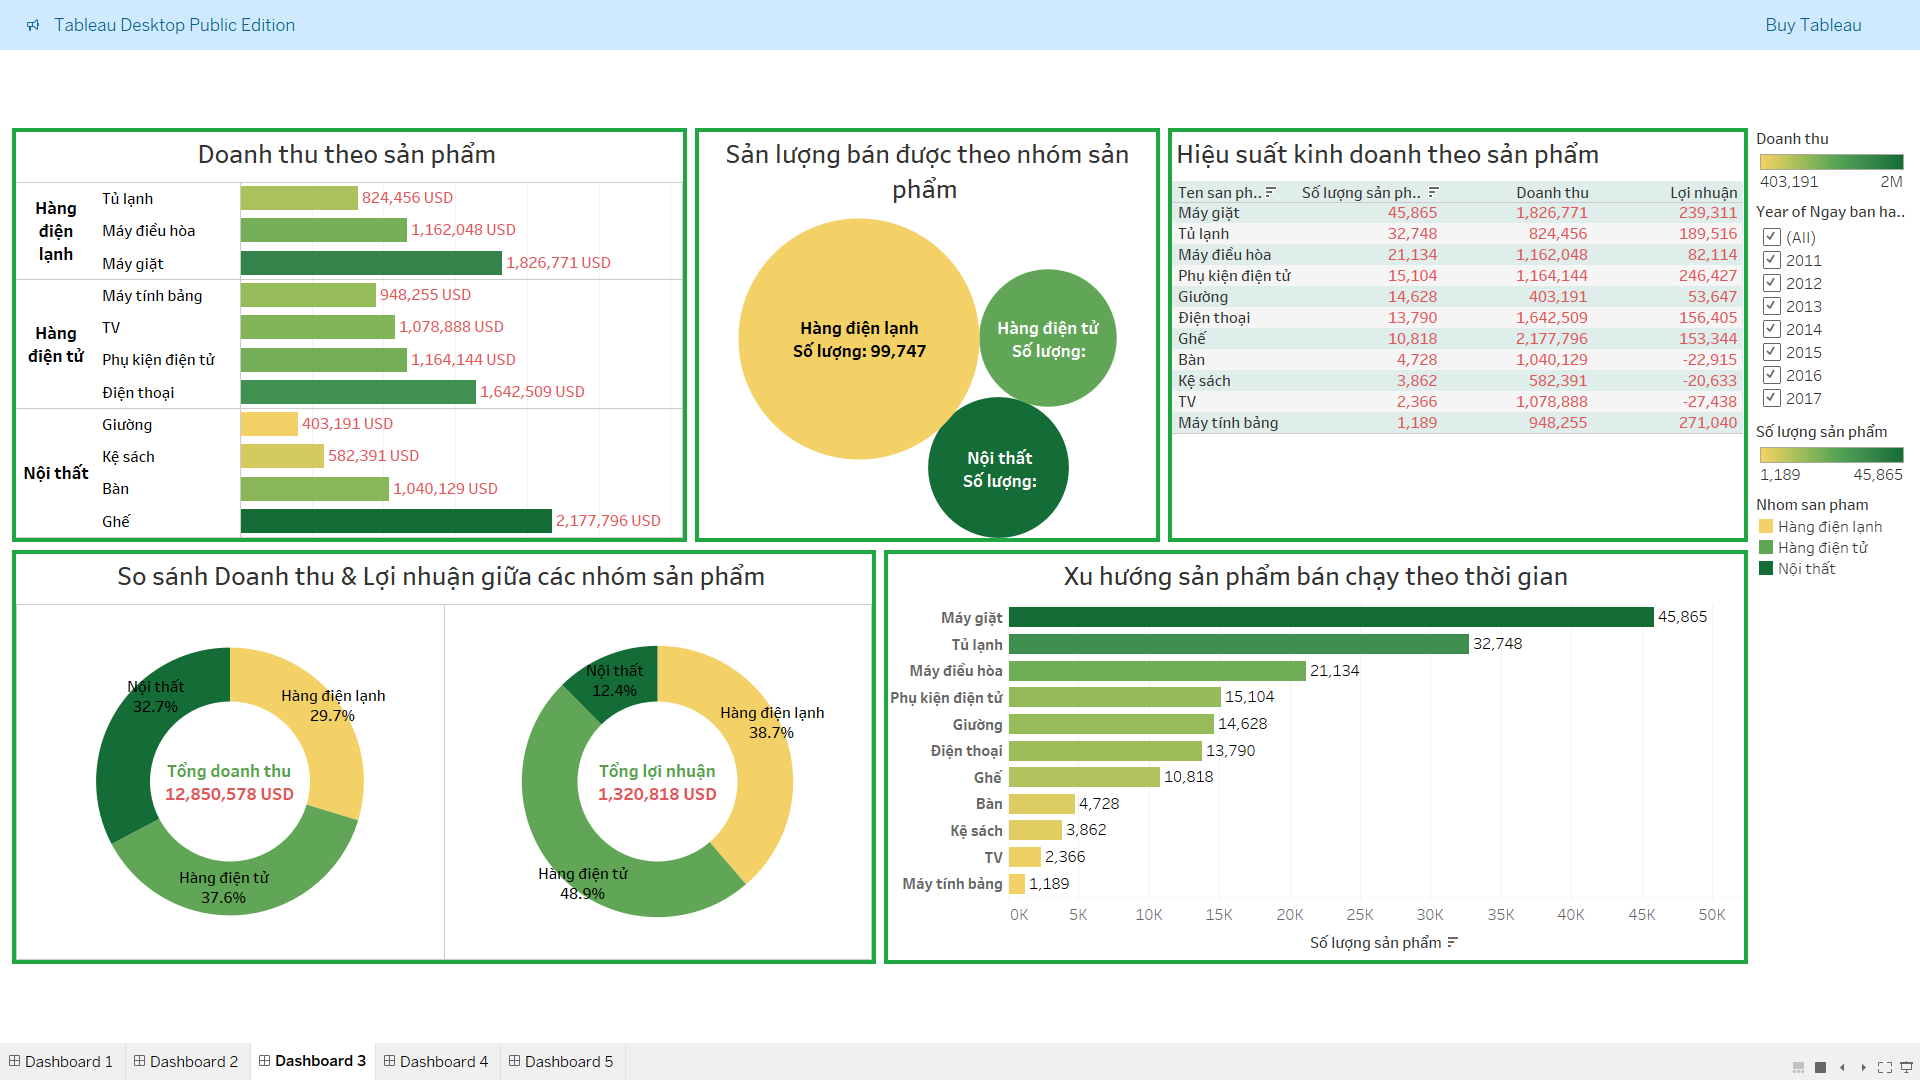

The dashboard page shown, as its layout file describes it:
{"tool":"tableau","page":{"name":"Dashboard 3","canvas":[1000,1000],"units":"permille","ordinal":2},"visuals":[{"type":"worksheet","title":"DB 3: Doanh thu theo sản phẩm","mark":"Bar","rows":["Nhom san pham","Ten san pham"],"cols":["Doanh thu"],"box":[4.7,10.2,351.7,489.8]},{"type":"worksheet","title":"DB 3: Sản lượng theo nhóm sản phẩm","mark":"Circle","box":[356.3,10.2,243.6,489.8]},{"type":"worksheet","title":"DB 3: Tên sản phẩm","mark":"Automatic","rows":["Ten san pham"],"box":[599.9,10.2,302.4,489.8]},{"type":"legend","title":"DB 3: Doanh thu theo sản phẩm","param":"[federated.1sq9p5i18wjn6t1e2qz7n0ca84ti].[sum:Doanh thu:qk]","box":[902.3,10.2,93,93.5]},{"type":"filter","title":"DB 3: Top sản phẩm","param":"[federated.1sq9p5i18wjn6t1e2qz7n0ca84ti].[yr:Ngay ban hang:ok]","box":[902.3,103.7,93,281.7]},{"type":"legend","title":"DB 3: Top sản phẩm","param":"[federated.1sq9p5i18wjn6t1e2qz7n0ca84ti].[sum:So luong:qk]","box":[902.3,385.4,93,93.5]},{"type":"legend","title":"DB 3: Lợi nhuận nhóm sản phẩm","param":"[federated.1sq9p5i18wjn6t1e2qz7n0ca84ti].[none:Nhom san pham:nk]","box":[902.3,478.9,93,119.1]},{"type":"worksheet","title":"DB 3: Lợi nhuận nhóm sản phẩm","mark":"Pie","cols":["Calculation_1271704007132463113","Calculation_1271704007132463113","Calculation_114560376933195777","Calculation_114560376933195777"],"box":[4.7,500,448.8,489.8]},{"type":"worksheet","title":"DB 3: Top sản phẩm","mark":"Automatic","rows":["Ten san pham"],"cols":["So luong"],"box":[453.4,500,448.9,489.8]}]}

Visuals, with their boxes on the dashboard's canvas, which has no fixed pixel size, in thousandths of its width and height (x1, y1, x2, y2). These are canvas units, not pixel positions in the 1920x1080 screenshot, which may show the page scaled, cropped or inside an application window:
"DB 3: Doanh thu theo sản phẩm" worksheet (Bar marks): crop(5, 10, 356, 500)
"DB 3: Sản lượng theo nhóm sản phẩm" worksheet (Circle marks): crop(356, 10, 600, 500)
"DB 3: Tên sản phẩm" worksheet: crop(600, 10, 902, 500)
"DB 3: Doanh thu theo sản phẩm" legend: crop(902, 10, 995, 104)
"DB 3: Top sản phẩm" filter: crop(902, 104, 995, 385)
"DB 3: Top sản phẩm" legend: crop(902, 385, 995, 479)
"DB 3: Lợi nhuận nhóm sản phẩm" legend: crop(902, 479, 995, 598)
"DB 3: Lợi nhuận nhóm sản phẩm" worksheet (Pie marks): crop(5, 500, 454, 990)
"DB 3: Top sản phẩm" worksheet: crop(453, 500, 902, 990)
